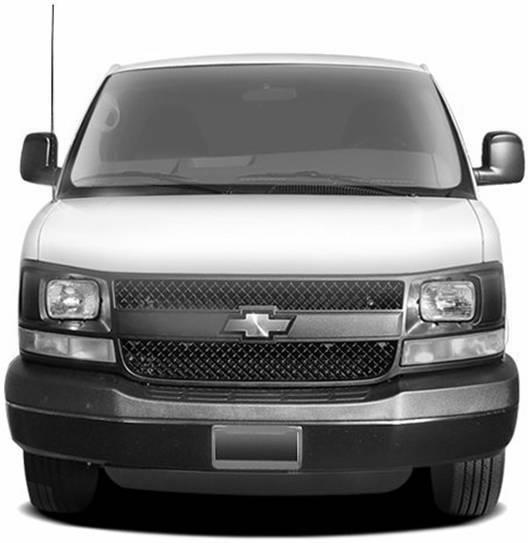car: (1, 1, 526, 530)
